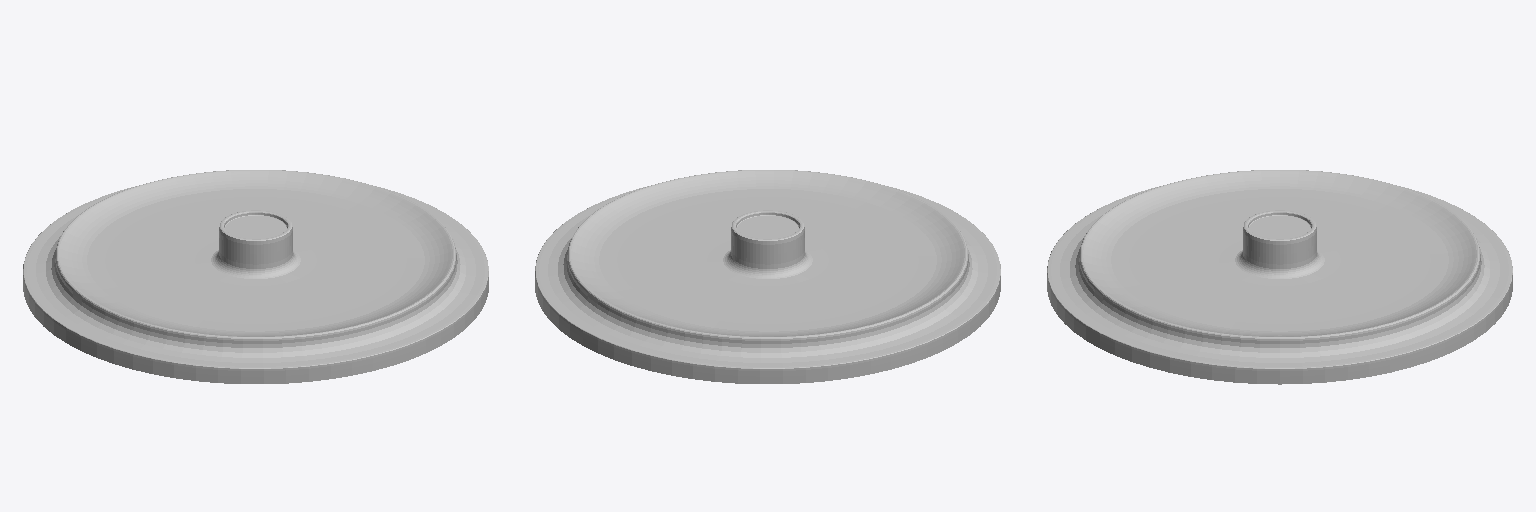
Rendered from socle.obj.
The picture shows the model from 3 angles: view 1: azimuth 30°, elevation 25°; view 2: azimuth 150°, elevation 25°; view 3: azimuth 270°, elevation 25°; orthographic projection.
Visible parts, largest first — view 1: Circle; view 2: Circle; view 3: Circle.
Boxes of the visible parts, <box> form: Circle: <box>23,170,488,383</box>; Circle: <box>535,170,1000,383</box>; Circle: <box>1047,170,1512,384</box>.
Bounding box in the file's own units: 5.97 × 0.8695 × 5.97.